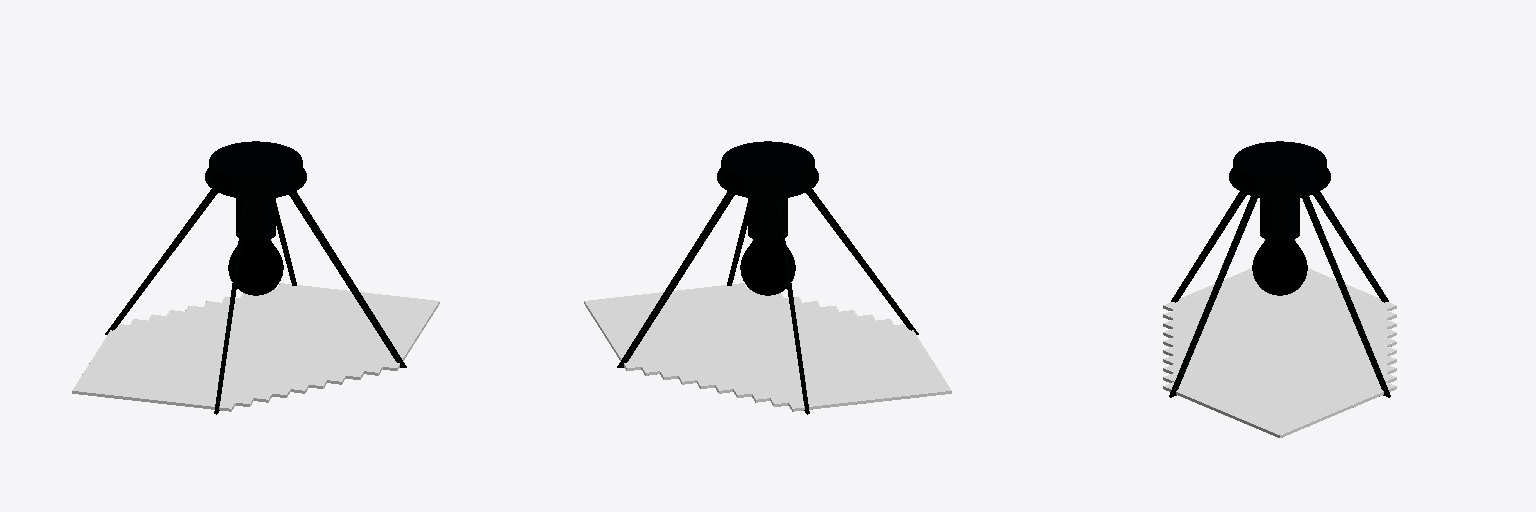
Rendered from Areti_Black_hole_mat(1).obj.
3 renders of one model, left to right at view 1: azimuth 30°, elevation 25°; view 2: azimuth 150°, elevation 25°; view 3: azimuth 270°, elevation 25°, orthographic.
Visible parts, largest first — view 1: Areti_Black_hole_mat1; view 2: Areti_Black_hole_mat1; view 3: Areti_Black_hole_mat1.
Boxes of the visible parts, box(x1,y1,x2,y2) form: Areti_Black_hole_mat1: box(72, 141, 439, 414); Areti_Black_hole_mat1: box(584, 141, 951, 414); Areti_Black_hole_mat1: box(1163, 141, 1396, 437).
Bounding box in the file's own units: 49.96 × 24.65 × 27.46.